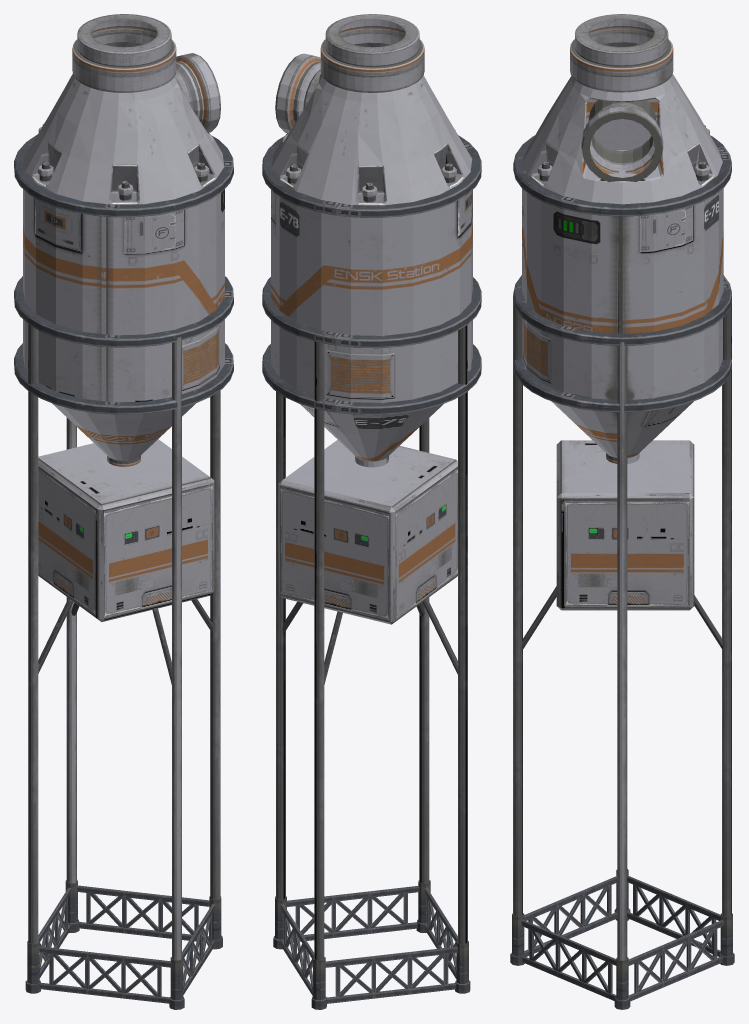
The model's file is 重力除尘器.obj.
3 renders of one model, left to right at view 1: azimuth 30°, elevation 25°; view 2: azimuth 150°, elevation 25°; view 3: azimuth 270°, elevation 25°, orthographic.
Parts seen in each view (by area): view 1: Cylinder060, ChamferBox007, Object006, Cylinder047, Cylinder045, Cylinder046, Cylinder106, Cylinder072, Cylinder105, Cylinder044, Line009, Box438 (+7 smaller); view 2: Cylinder060, ChamferBox007, Object006, Cylinder044, Cylinder047, Cylinder046, Cylinder106, Cylinder072, Cylinder105, Cylinder045, Line009, Box417 (+7 smaller); view 3: Cylinder060, ChamferBox007, Object006, Cylinder046, Cylinder045, Cylinder044, Line009, Cylinder106, Cylinder072, Cylinder105, Box429, Box286 (+7 smaller).
Boxes of the visible parts, <box> form: Cylinder060: <box>23,42,224,466</box>; ChamferBox007: <box>38,439,214,622</box>; Object006: <box>72,14,176,92</box>; Cylinder047: <box>28,324,38,943</box>; Cylinder045: <box>172,337,181,960</box>; Cylinder046: <box>210,390,220,899</box>; Cylinder106: <box>14,134,233,217</box>; Cylinder072: <box>14,276,233,347</box>; Cylinder105: <box>14,343,233,414</box>; Cylinder044: <box>66,417,76,883</box>; Line009: <box>176,53,220,132</box>; Box438: <box>38,946,170,967</box>; Cylinder060: <box>271,42,472,467</box>; ChamferBox007: <box>278,439,457,624</box>; Object006: <box>320,14,424,92</box>; Cylinder044: <box>314,341,324,960</box>; Cylinder047: <box>458,325,467,944</box>; Cylinder046: <box>276,391,285,899</box>; Cylinder106: <box>262,135,481,217</box>; Cylinder072: <box>262,277,481,348</box>; Cylinder105: <box>262,344,481,415</box>; Cylinder045: <box>419,418,429,883</box>; Line009: <box>275,53,320,133</box>; Box417: <box>325,946,457,967</box>; Cylinder060: <box>522,42,723,463</box>; ChamferBox007: <box>556,440,694,610</box>; Object006: <box>570,14,673,92</box>; Cylinder046: <box>617,341,627,960</box>; Cylinder045: <box>513,295,522,916</box>; Cylinder044: <box>722,301,731,916</box>; Line009: <box>581,100,663,181</box>; Cylinder106: <box>513,135,731,216</box>; Cylinder072: <box>513,275,731,345</box>; Cylinder105: <box>513,359,731,412</box>; Box429: <box>628,920,723,965</box>; Box286: <box>521,920,616,965</box>.
Size of the model in its own units: 7 by 31.96 by 7.
